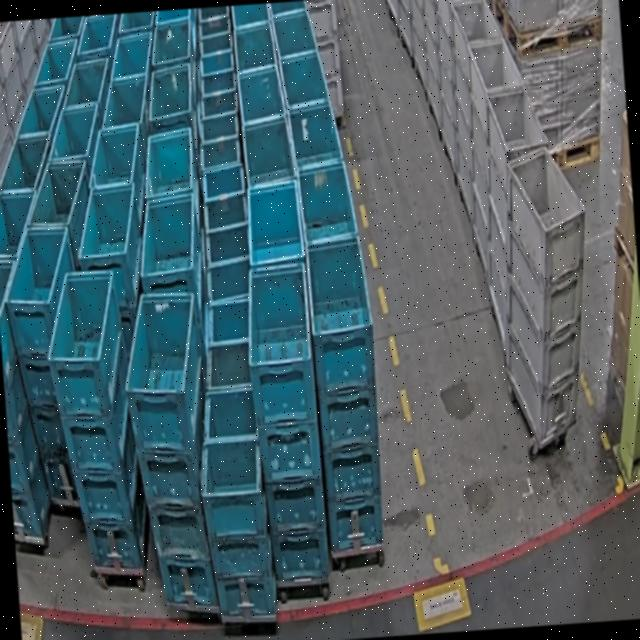4G: (490, 146, 600, 446)
B4: (42, 267, 150, 578), (118, 290, 220, 612), (242, 261, 328, 588), (304, 233, 388, 558), (0, 224, 92, 514), (0, 256, 53, 547)
B8: (194, 386, 276, 620)
